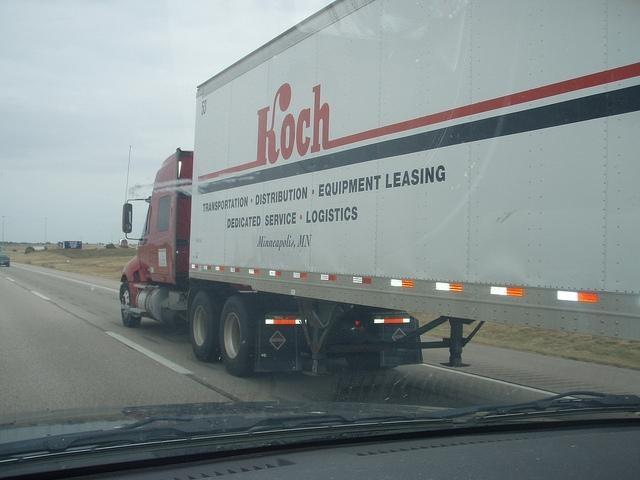car: (1, 253, 11, 266)
truck: (115, 1, 638, 372)
